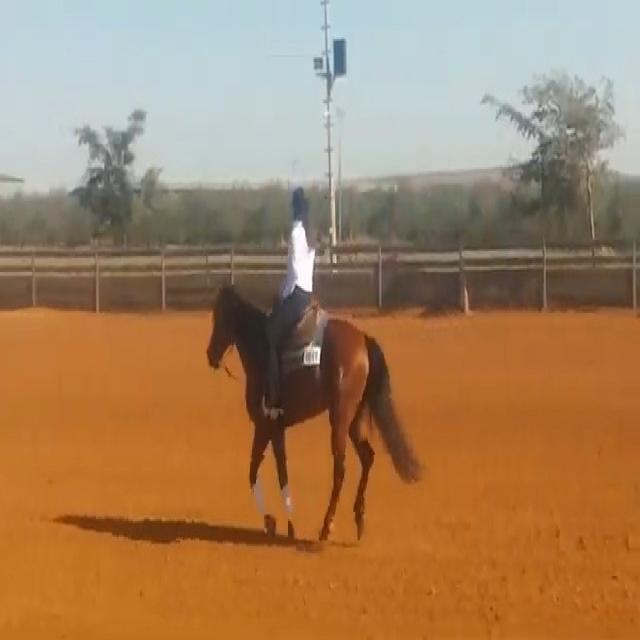horse: (203, 279, 423, 544)
